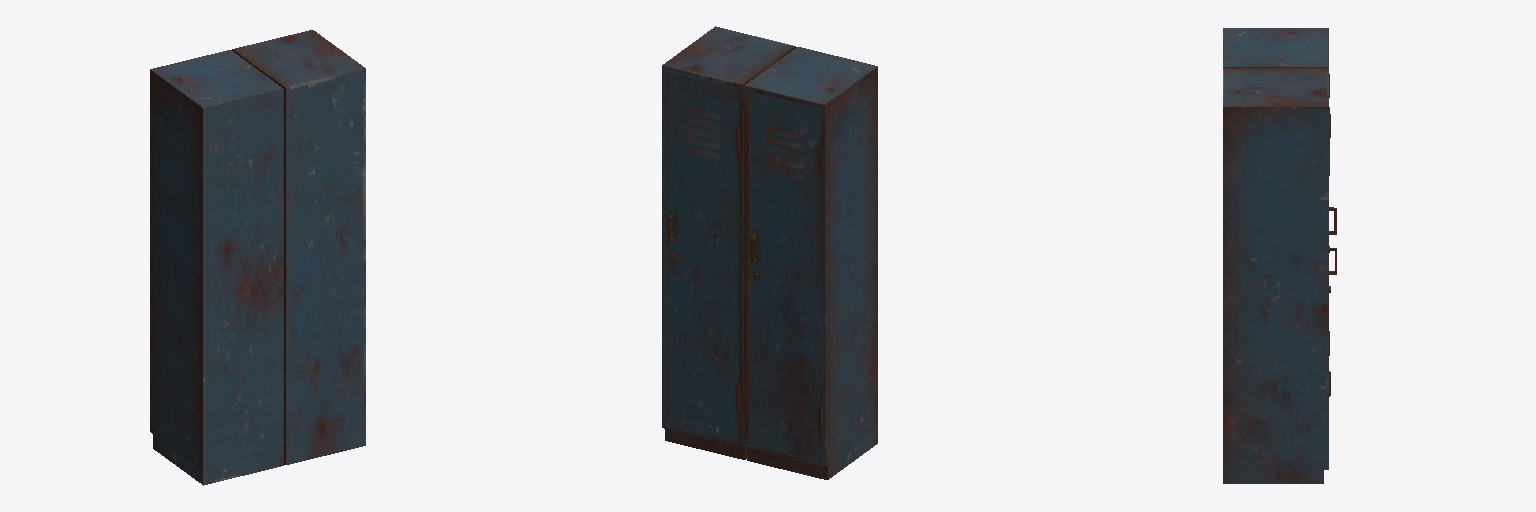
The picture shows the model from 3 angles: view 1: azimuth 30°, elevation 25°; view 2: azimuth 150°, elevation 25°; view 3: azimuth 270°, elevation 25°; orthographic projection.
Parts seen in each view (by area): view 1: defaultMaterial.002_defaultMaterial.003; view 2: defaultMaterial.002_defaultMaterial.003; view 3: defaultMaterial.002_defaultMaterial.003.
Part boxes in pixels (x1,y1,x2,y2): defaultMaterial.002_defaultMaterial.003: (150, 30, 365, 485); defaultMaterial.002_defaultMaterial.003: (662, 26, 877, 479); defaultMaterial.002_defaultMaterial.003: (1223, 28, 1336, 483).
Bounding box in the file's own units: 0.9032 × 2 × 0.5524.
Materials: 1 (1 with a texture image).